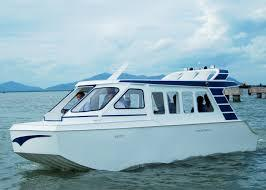Ship: (11, 69, 257, 171)
